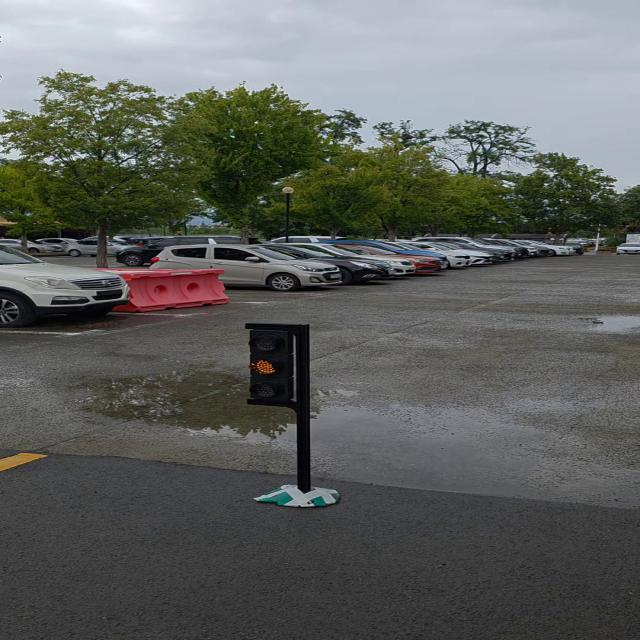yellow: (246, 327, 293, 409)
